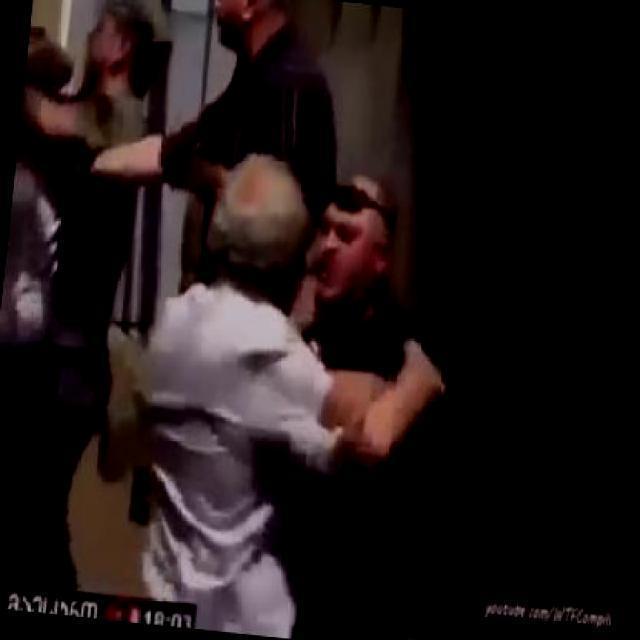fight: (140, 152, 457, 536)
